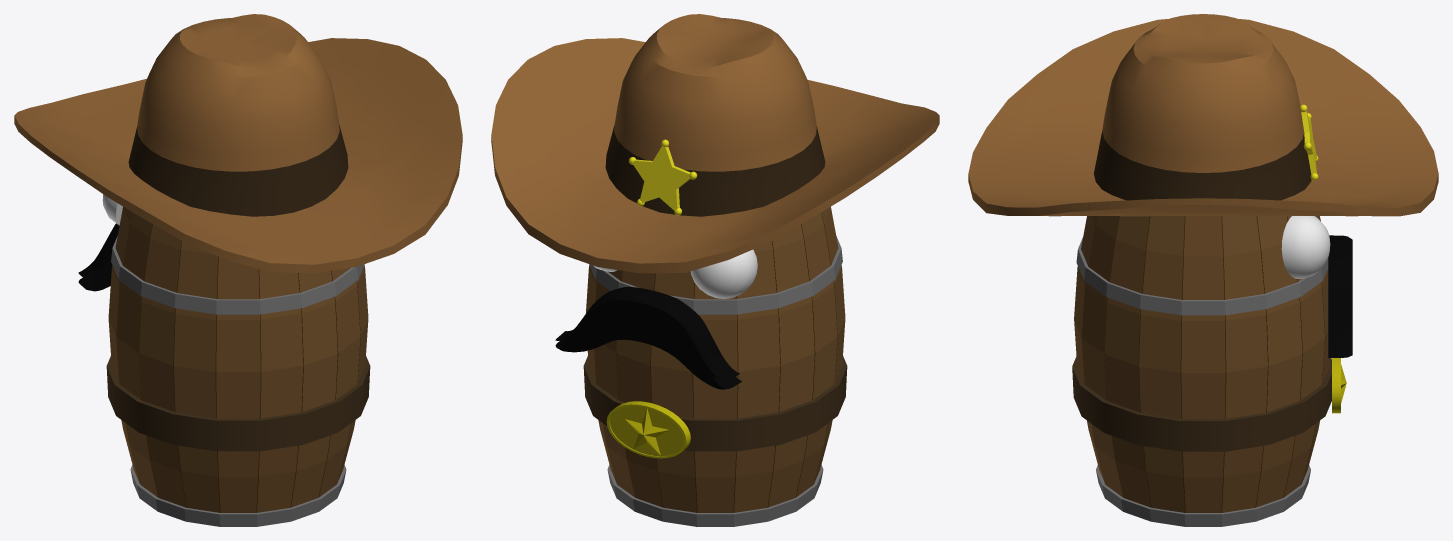
File: barrel sheriff upgrade 2.fbx
3 renders of one model, left to right at view 1: azimuth 30°, elevation 25°; view 2: azimuth 150°, elevation 25°; view 3: azimuth 270°, elevation 25°, orthographic.
Parts seen in each view (by area): view 1: barrel sheriff; view 2: barrel sheriff; view 3: barrel sheriff.
Boxes of the visible parts, <box> form: barrel sheriff: <box>14,14,462,526</box>; barrel sheriff: <box>491,14,939,526</box>; barrel sheriff: <box>968,14,1438,526</box>.
Size of the model in its own units: 674 by 766 by 732.
